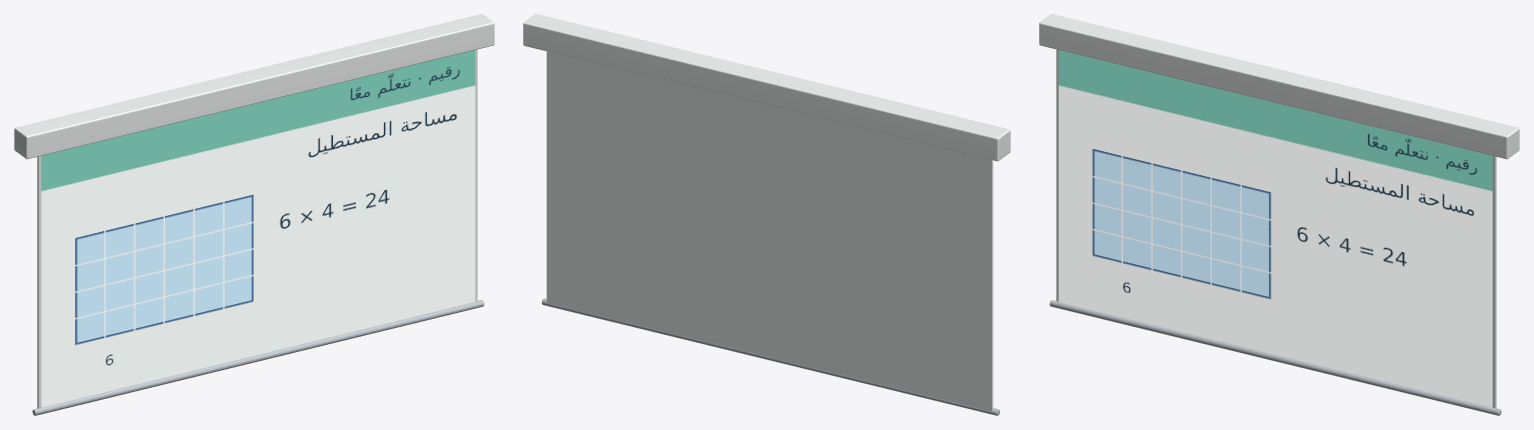
Rendered from projection_screen.glb.
3 views of the same model, side by side, from view 1: azimuth 30°, elevation 25°; view 2: azimuth 150°, elevation 25°; view 3: azimuth 330°, elevation 25° (orthographic).
Visible parts, largest first — view 1: Projected_Lesson, Screen_Cassette, Screen_Bottom_Bar, Screen_Surface; view 2: Screen_Surface, Screen_Cassette, Screen_Bottom_Bar; view 3: Projected_Lesson, Screen_Cassette, Screen_Bottom_Bar, Screen_Surface.
Part boxes in pixels (box(x1,y1,x2,y2)): Projected_Lesson: box(41, 50, 475, 407); Screen_Cassette: box(14, 14, 494, 159); Screen_Bottom_Bar: box(32, 300, 484, 415); Screen_Surface: box(37, 49, 477, 408); Screen_Surface: box(546, 51, 993, 411); Screen_Cassette: box(523, 14, 1010, 161); Screen_Bottom_Bar: box(541, 298, 999, 415); Projected_Lesson: box(1058, 50, 1492, 407); Screen_Cassette: box(1039, 14, 1519, 159); Screen_Bottom_Bar: box(1049, 300, 1501, 415); Screen_Surface: box(1056, 49, 1496, 408).
Bounding box in the file's own units: 1.9 × 1.1 × 0.09.
Materials: 4 (1 with a texture image).
